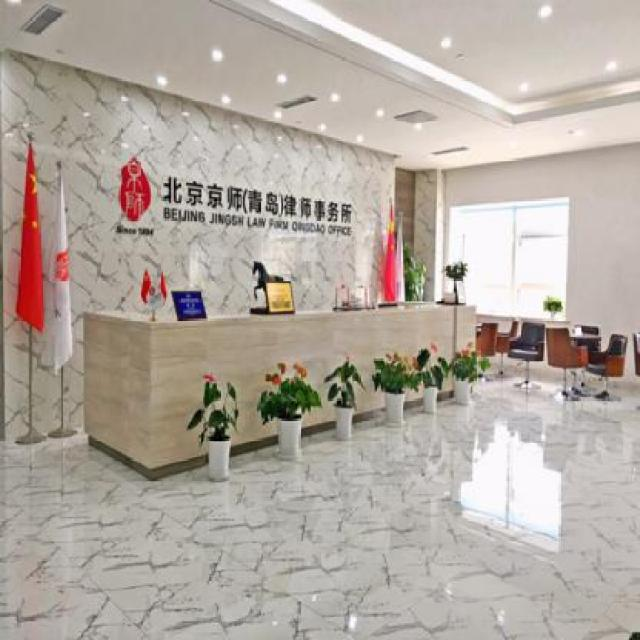frontdesk: (68, 280, 485, 488)
